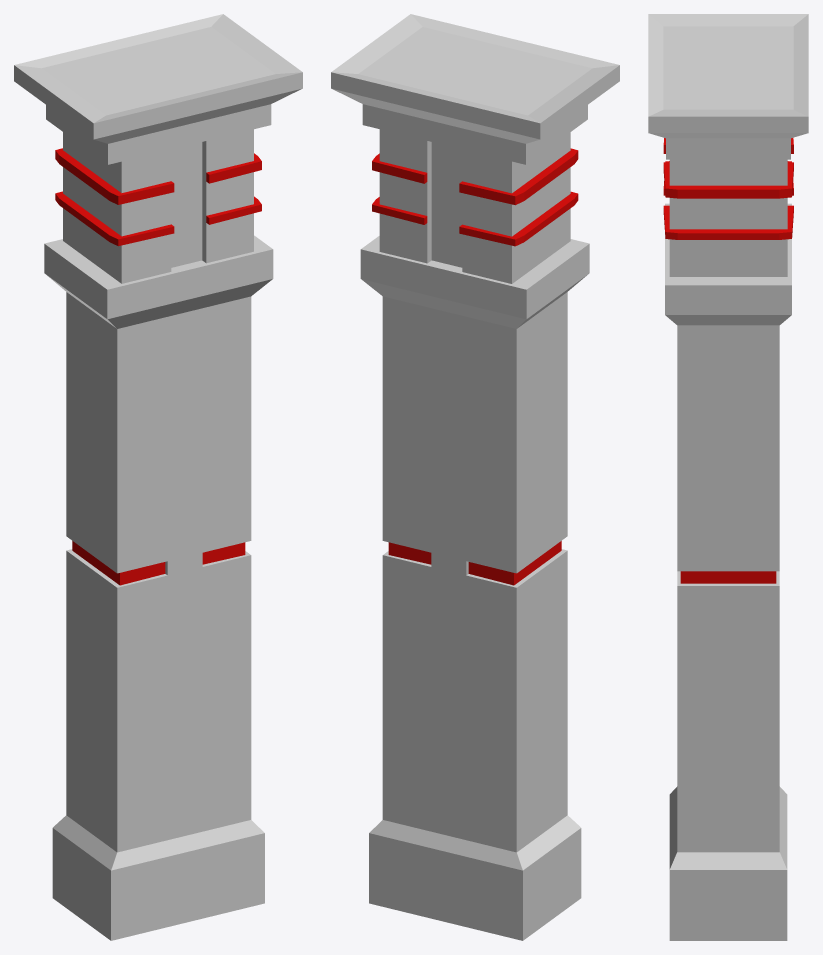
The model's file is Pillar.fbx.
3 renders of one model, left to right at view 1: azimuth 30°, elevation 25°; view 2: azimuth 150°, elevation 25°; view 3: azimuth 270°, elevation 25°, orthographic.
Visible parts, largest first — view 1: Pillar; view 2: Pillar; view 3: Pillar.
Part boxes in pixels (x1,y1,x2,y2): Pillar: (14, 14, 302, 940); Pillar: (331, 14, 619, 940); Pillar: (648, 14, 808, 940).
Size of the model in its own units: 182 by 692 by 120.
